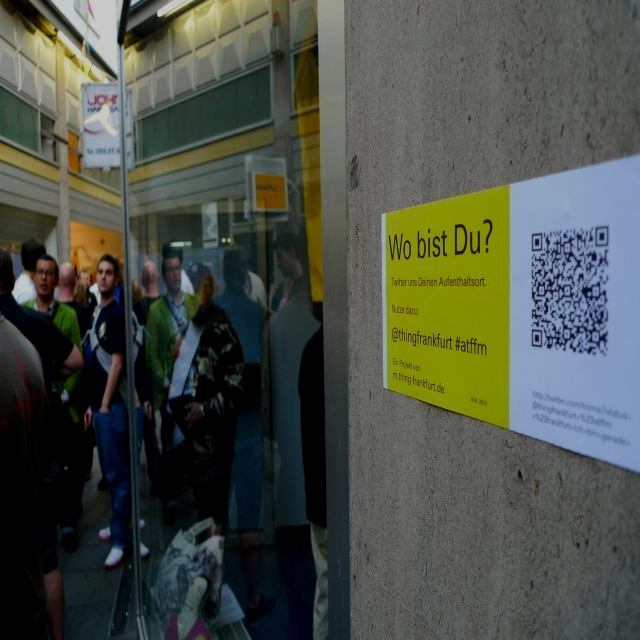qr-code: (532, 226, 608, 356)
